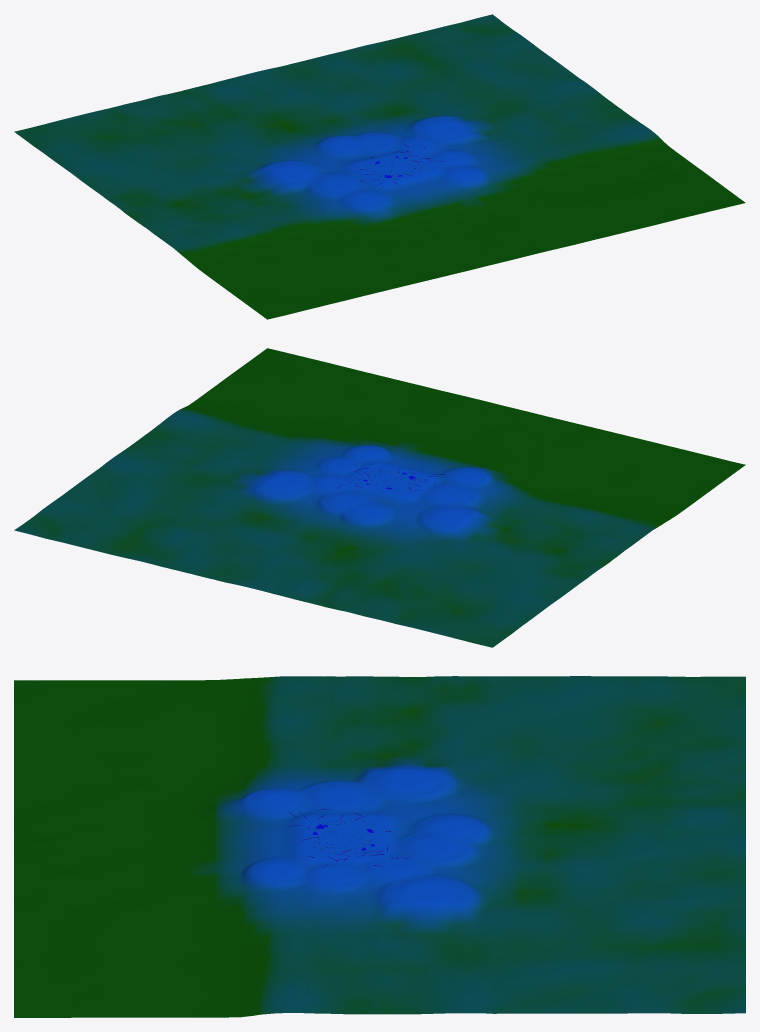
Rendered from fen_bank_ground.glb.
3 views of the same model, one above another, from view 1: azimuth 30°, elevation 25°; view 2: azimuth 150°, elevation 25°; view 3: azimuth 270°, elevation 25° (orthographic). The views are drawn at different scales.
Visible parts, largest first — view 1: fen_bank_ground; view 2: fen_bank_ground; view 3: fen_bank_ground.
Part boxes in pixels (x1,y1,x2,y2): fen_bank_ground: (14,14,745,319); fen_bank_ground: (14,348,745,647); fen_bank_ground: (14,676,745,1017).
Size of what is drawn, in the model's own units: 120 by 2.46 by 110.
